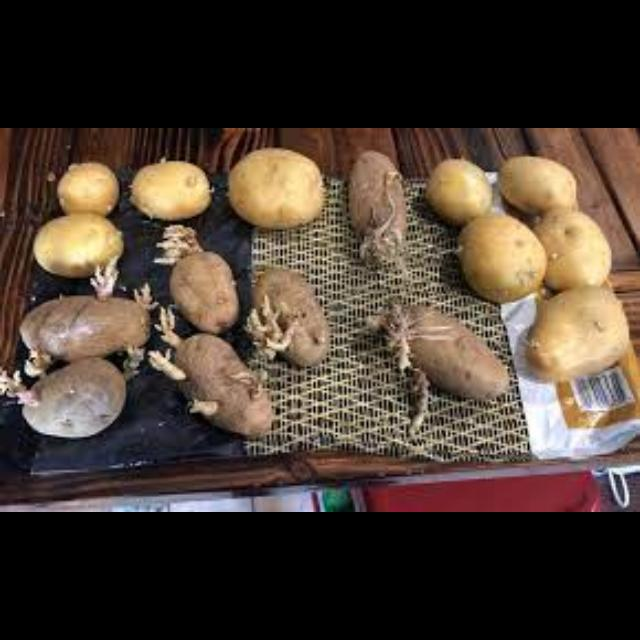Potato: (524, 278, 630, 380), (448, 204, 546, 300), (227, 147, 326, 229), (528, 198, 612, 294), (31, 208, 131, 284), (494, 147, 588, 213), (125, 156, 209, 224), (54, 156, 116, 232), (427, 154, 491, 226)
Sprouted potato: (360, 282, 512, 444), (142, 305, 280, 443), (15, 269, 155, 367), (230, 259, 336, 377), (0, 358, 146, 440), (154, 222, 240, 330), (344, 140, 414, 268)
